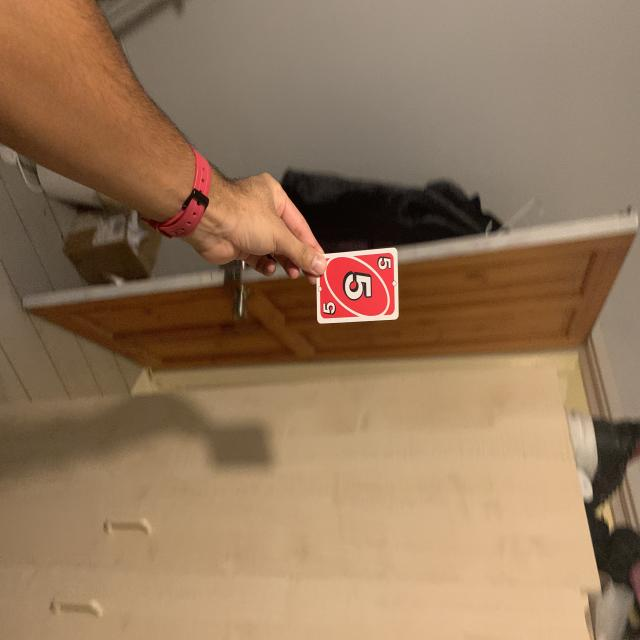lred-5: (375, 254, 395, 273)
